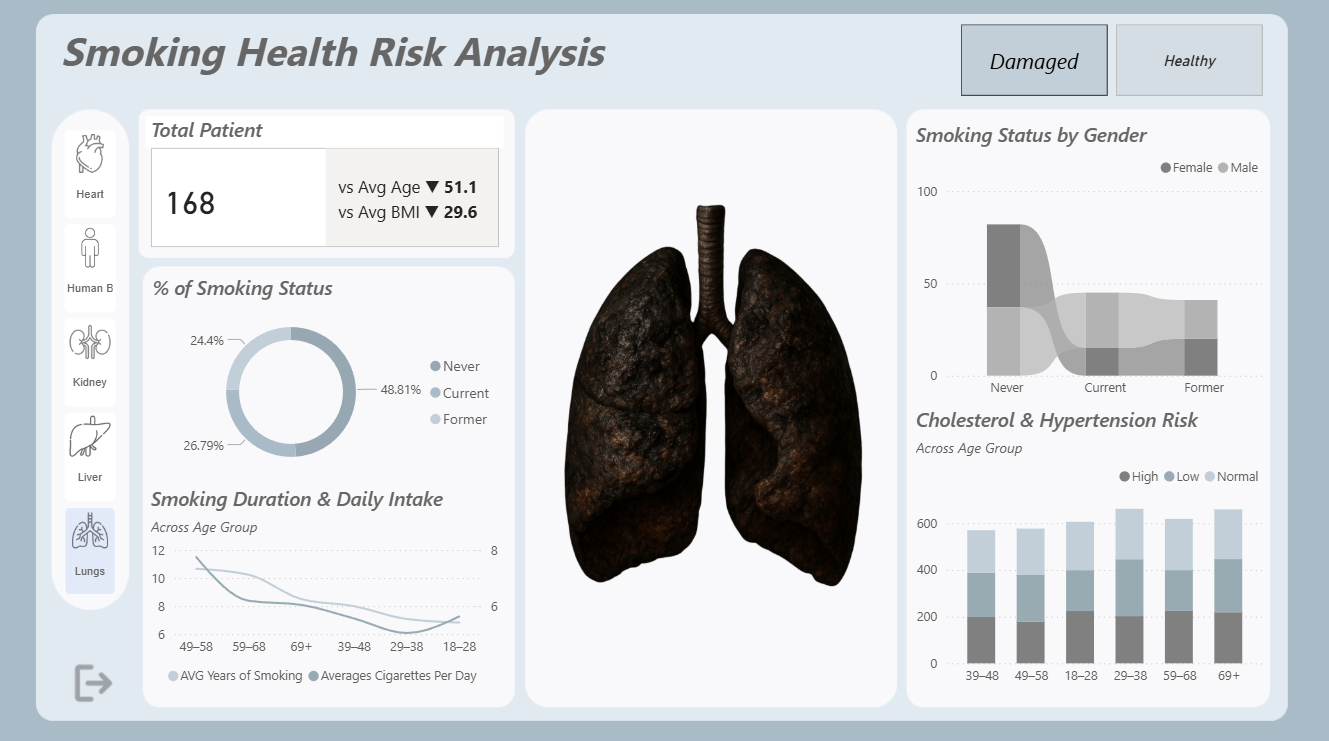

What the dashboard file says about the page in this screenshot:
{"tool":"powerbi","page":{"name":"Page 1","canvas":[1280,720],"ordinal":0},"visuals":[{"type":"advancedSlicerVisual","fields":{"Values":["condition.Organ_Condition"]},"box":[918.6,25.7,298.6,78.6],"z":0},{"type":"cardVisual","title":"Total Patient","fields":{"Data":["CountNonNull(health_dataset.Patient_ID)"]},"box":[145,118.8,342,130],"z":1000},{"type":"ChicletSlicer1448559807354","fields":{"Category":["Organs.Organ"],"Image":["Organs.Icon_URL"]},"box":[58.9,123.2,86.8,465.3],"z":2000},{"type":"image","box":[515,118.3,342,553.3],"z":3000},{"type":"donutChart","title":"% of Smoking Status","fields":{"Category":["health_dataset.Smoking_Status"],"Y":["CountNonNull(health_dataset.Smoking_Status)"]},"box":[145.7,270,341.4,200],"z":4000},{"type":"lineChart","title":"Smoking Duration & Daily Intake","fields":{"Category":["health_dataset.Age Group"],"Y":["Avg(health_dataset.Years_of_Smoking)"],"Y2":["Avg(health_dataset.Cigarettes_Per_Day)"]},"box":[144.3,471.4,341.4,200],"z":5000},{"type":"ribbonChart","title":"Smoking Status by Gender","fields":{"Category":["health_dataset.Smoking_Status"],"Y":["CountNonNull(health_dataset.Patient_ID)"],"Series":["health_dataset.Gender"]},"box":[875.7,122.9,341.4,272.9],"z":6000},{"type":"columnChart","title":"Cholesterol & Hypertension Risk","fields":{"Category":["health_dataset.Age Group"],"Y":["Avg(health_dataset.Cholesterol_Level)"],"Series":["health_dataset.BP_Risk"]},"box":[875.7,395.7,342,275.7],"z":7000},{"type":"textbox","box":[58.6,25.7,547.1,64.3],"z":7001}]}

Visuals, with their boxes in screenshot pixels (x1, y1, x2, y2), scaled from the page's 1280x720 canvas onto the 1329x741 screenshot:
advancedSlicerVisual - condition.Organ_Condition: l=954, t=26, r=1264, b=107
"Total Patient" cardVisual: l=151, t=122, r=506, b=256
ChicletSlicer1448559807354 - Organs.Organ x Organs.Icon_URL: l=61, t=127, r=151, b=606
image: l=535, t=122, r=890, b=691
"% of Smoking Status" donutChart: l=151, t=278, r=506, b=484
"Smoking Duration & Daily Intake" lineChart: l=150, t=485, r=504, b=691
"Smoking Status by Gender" ribbonChart: l=909, t=126, r=1264, b=407
"Cholesterol & Hypertension Risk" columnChart: l=909, t=407, r=1264, b=691
textbox: l=61, t=26, r=629, b=93
